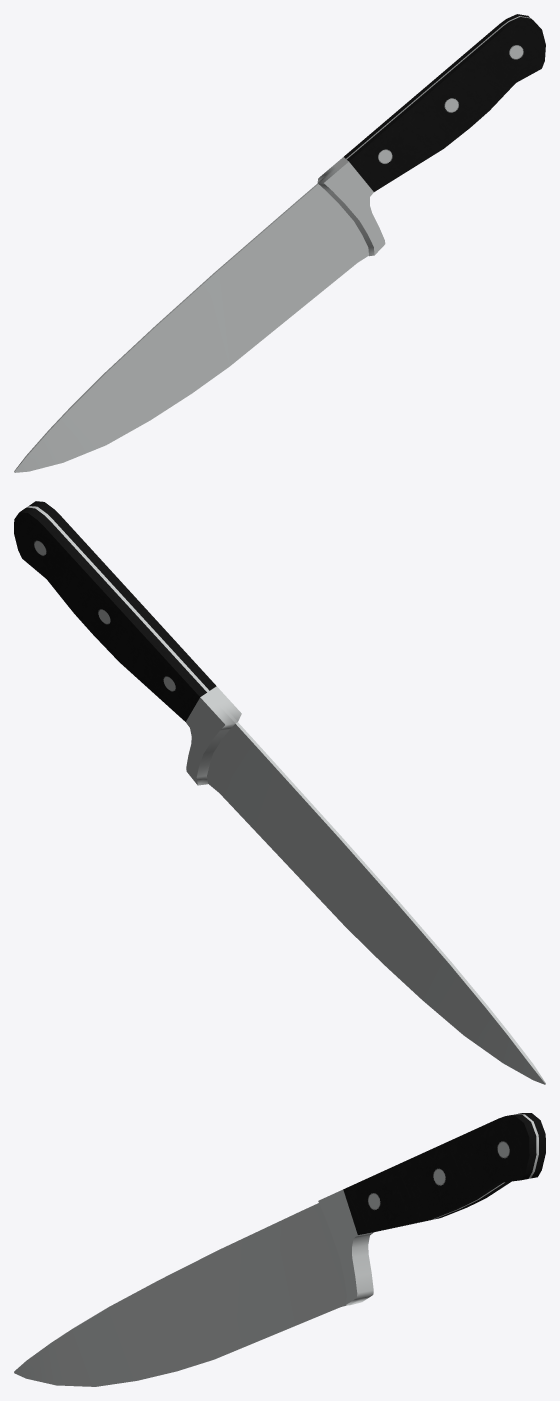
Rendered from Knife.glb.
3 views of the same model, one above another, from view 1: azimuth 30°, elevation 25°; view 2: azimuth 150°, elevation 25°; view 3: azimuth 330°, elevation 25° (orthographic). The views are drawn at different scales.
Visible parts, largest first — view 1: KitchenKnife; view 2: KitchenKnife; view 3: KitchenKnife.
Boxes of the visible parts, <box> form: KitchenKnife: <box>14,14,545,472</box>; KitchenKnife: <box>14,501,545,1084</box>; KitchenKnife: <box>14,1113,545,1386</box>.
Bounding box in the file's own units: 0.2689 × 0.1901 × 0.0411.
Materials: 1 (1 with a texture image).
